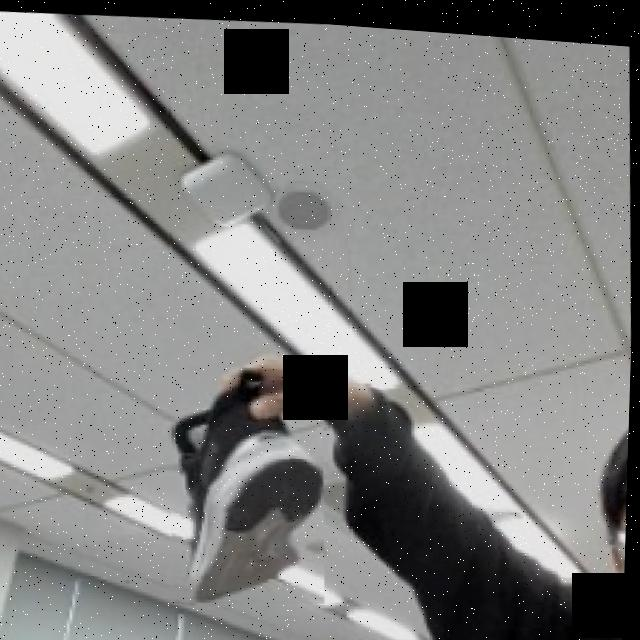shoe: (159, 356, 333, 609)
